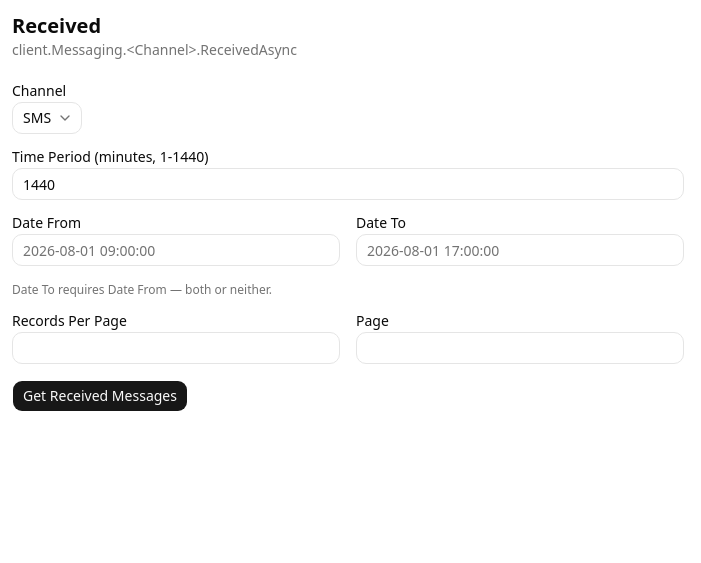
ReceivedPage › renders the response
Click the button "Get Received Messages" at (100, 396), box x1=12 y1=380 x2=188 y2=412
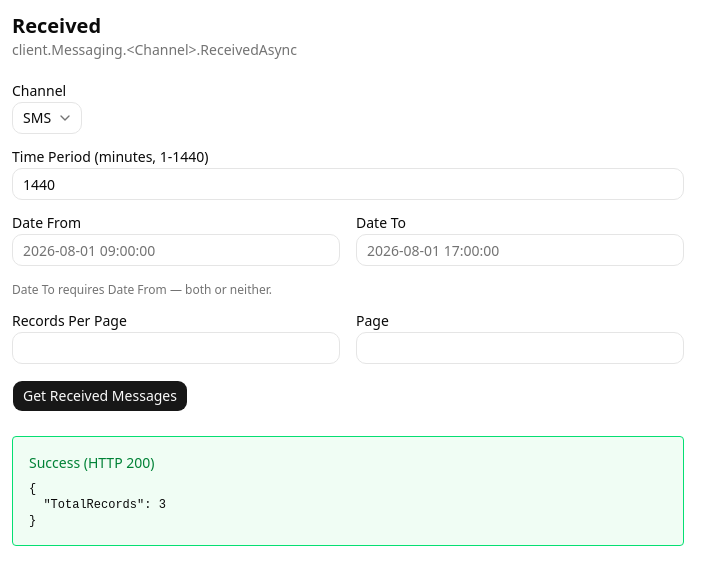
Check: the text "Success (HTTP 200)" is shown, box x1=29 y1=453 x2=154 y2=472
